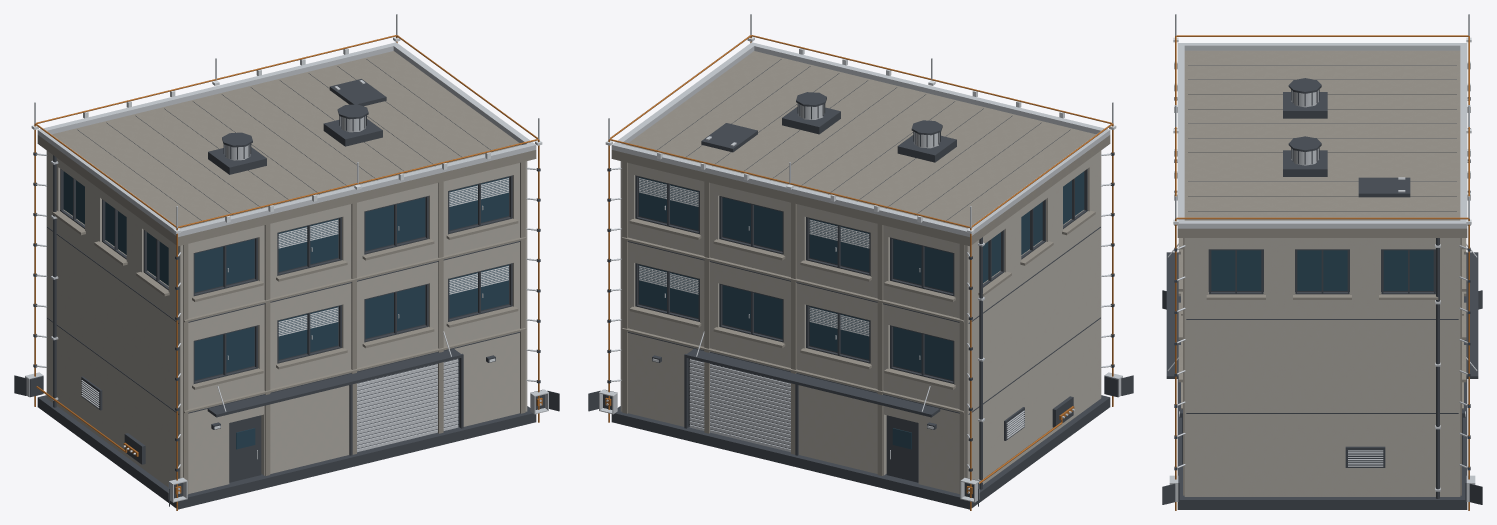
The model's file is spda-predio.glb.
The picture shows the model from 3 angles, left to right: view 1: azimuth 30°, elevation 25°; view 2: azimuth 150°, elevation 25°; view 3: azimuth 270°, elevation 25°; orthographic projection. The views are drawn at different scales.
Visible parts, largest first — view 1: SPDA_concreto, SPDA_cobertura, SPDA_metal, SPDA_vidro, SPDA_aluminio, SPDA_cobre, SPDA_isolador; view 2: SPDA_concreto, SPDA_cobertura, SPDA_metal, SPDA_vidro, SPDA_aluminio, SPDA_cobre, SPDA_isolador; view 3: SPDA_concreto, SPDA_cobertura, SPDA_metal, SPDA_aluminio, SPDA_vidro, SPDA_cobre, SPDA_isolador.
Boxes of the visible parts, box(x1,y1,x2,y2) form: SPDA_concreto: box(46, 150, 527, 493); SPDA_cobertura: box(37, 51, 536, 494); SPDA_metal: box(14, 59, 559, 509); SPDA_vidro: box(63, 171, 508, 449); SPDA_aluminio: box(25, 14, 548, 502); SPDA_cobre: box(34, 35, 542, 510); SPDA_isolador: box(31, 37, 542, 429); SPDA_concreto: box(620, 150, 1101, 493); SPDA_cobertura: box(611, 51, 1110, 494); SPDA_metal: box(588, 59, 1133, 509); SPDA_vidro: box(639, 171, 1084, 449); SPDA_aluminio: box(599, 14, 1122, 502); SPDA_cobre: box(605, 35, 1113, 510); SPDA_isolador: box(605, 37, 1116, 429); SPDA_concreto: box(1184, 238, 1460, 496); SPDA_cobertura: box(1177, 50, 1467, 495); SPDA_metal: box(1162, 65, 1482, 509); SPDA_aluminio: box(1167, 14, 1477, 501); SPDA_vidro: box(1211, 250, 1433, 290); SPDA_cobre: box(1175, 35, 1469, 510); SPDA_isolador: box(1173, 37, 1471, 416).
Size of the model in its own units: 13.51 by 10.05 by 9.3.
Materials: 7 (2 with a texture image).
